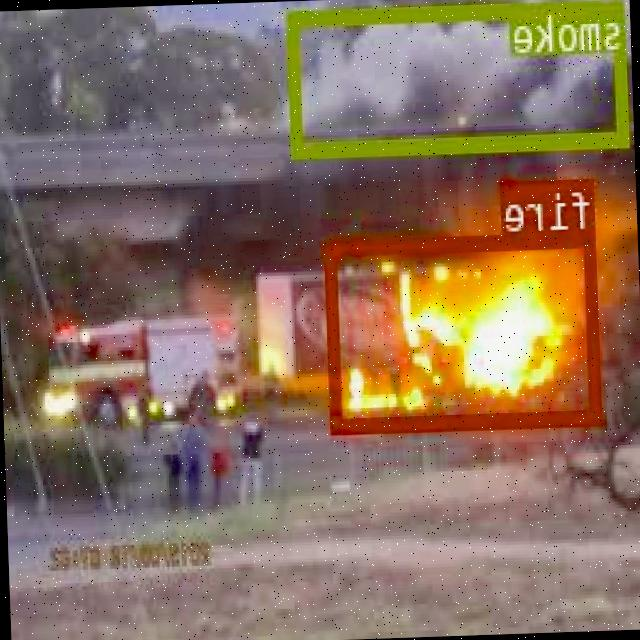fire: (326, 232, 603, 430)
smoke: (289, 0, 631, 153)
